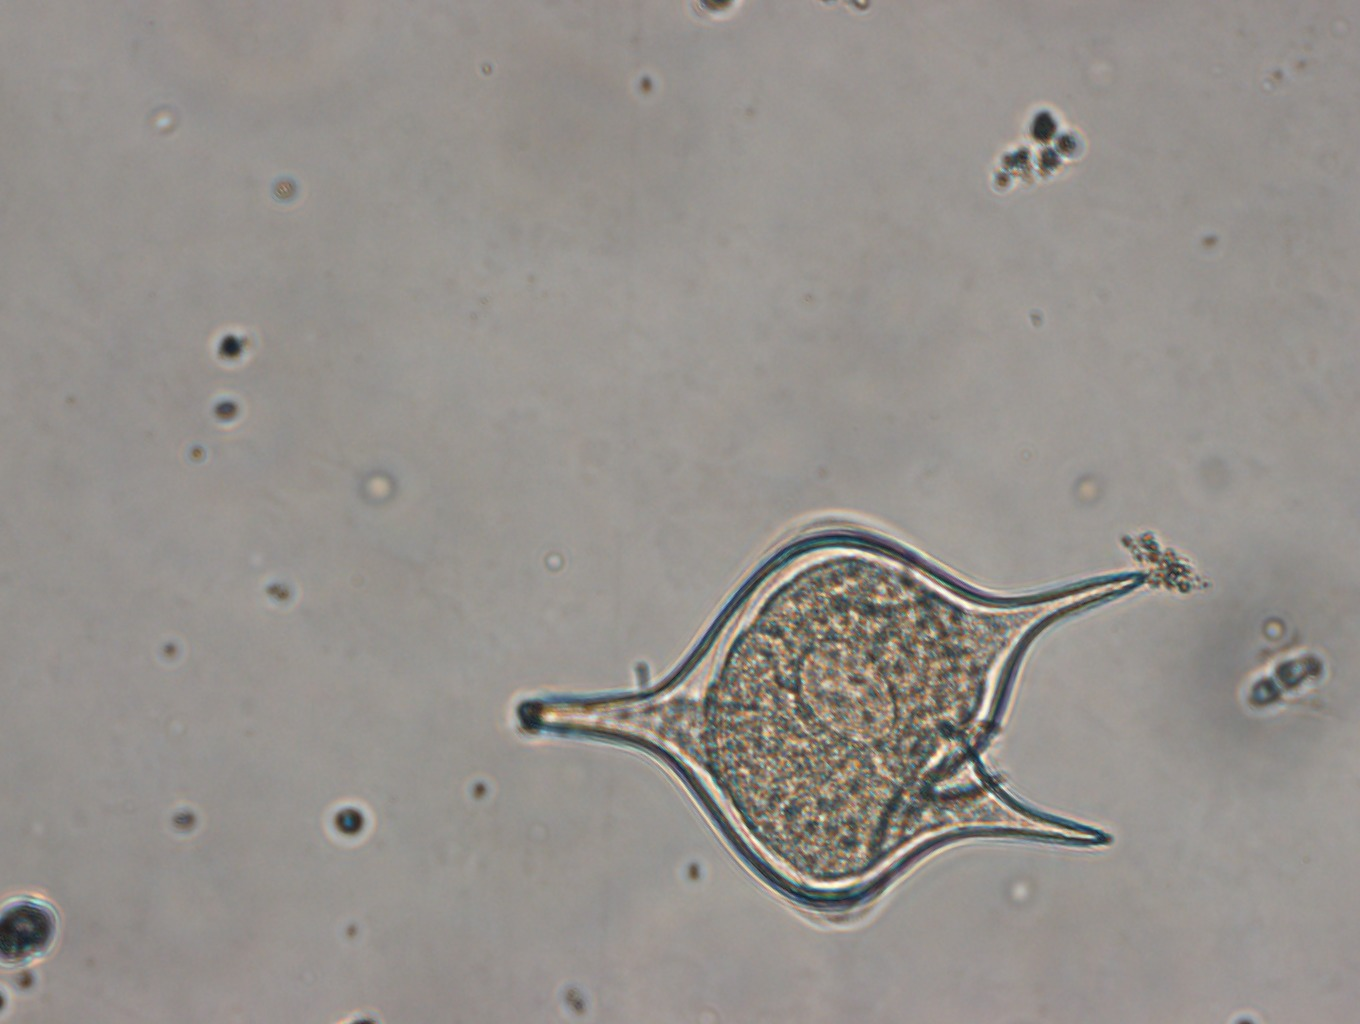protoperidinium: (509, 523, 1148, 921)
